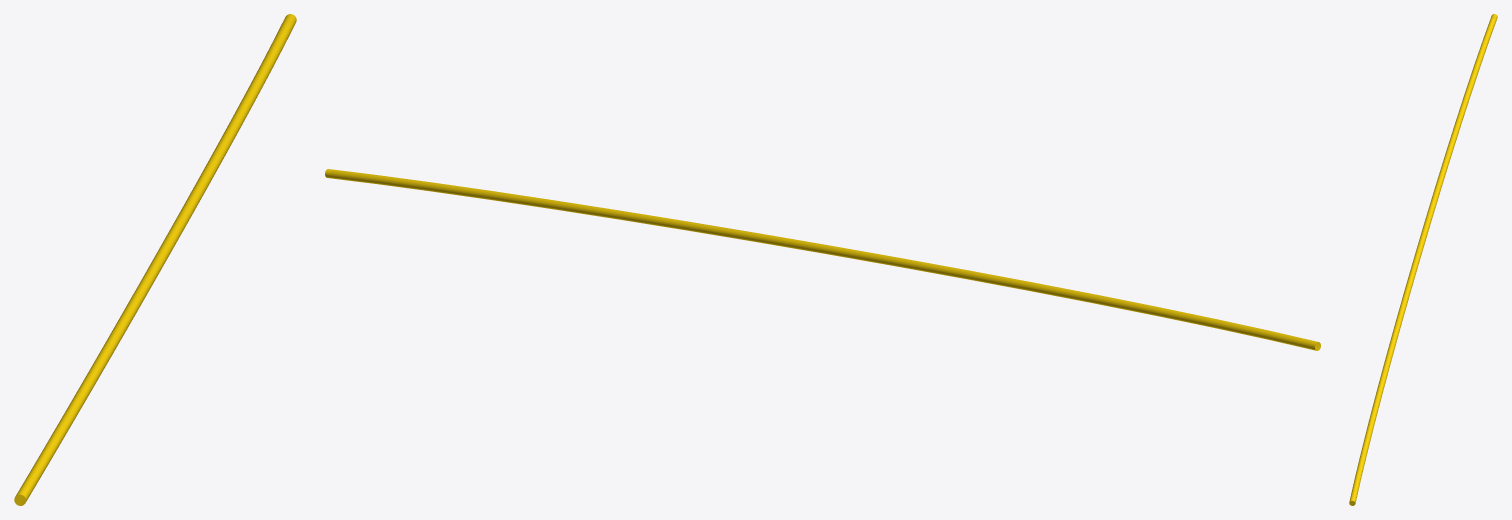
Rendered from Event_421127236_track_36.fbx.
3 views of the same model, side by side, from view 1: azimuth 90°, elevation 25°; view 2: azimuth 150°, elevation 25°; view 3: azimuth 270°, elevation 25° (orthographic). The views are drawn at different scales.
Parts seen in each view (by area): view 1: Model; view 2: Model; view 3: Model.
Boxes of the visible parts, <box> form: Model: <box>14,14,296,505</box>; Model: <box>325,169,1320,350</box>; Model: <box>1349,14,1497,505</box>.
Bounding box in the file's own units: 5.54 × 0.8559 × 0.9395.
